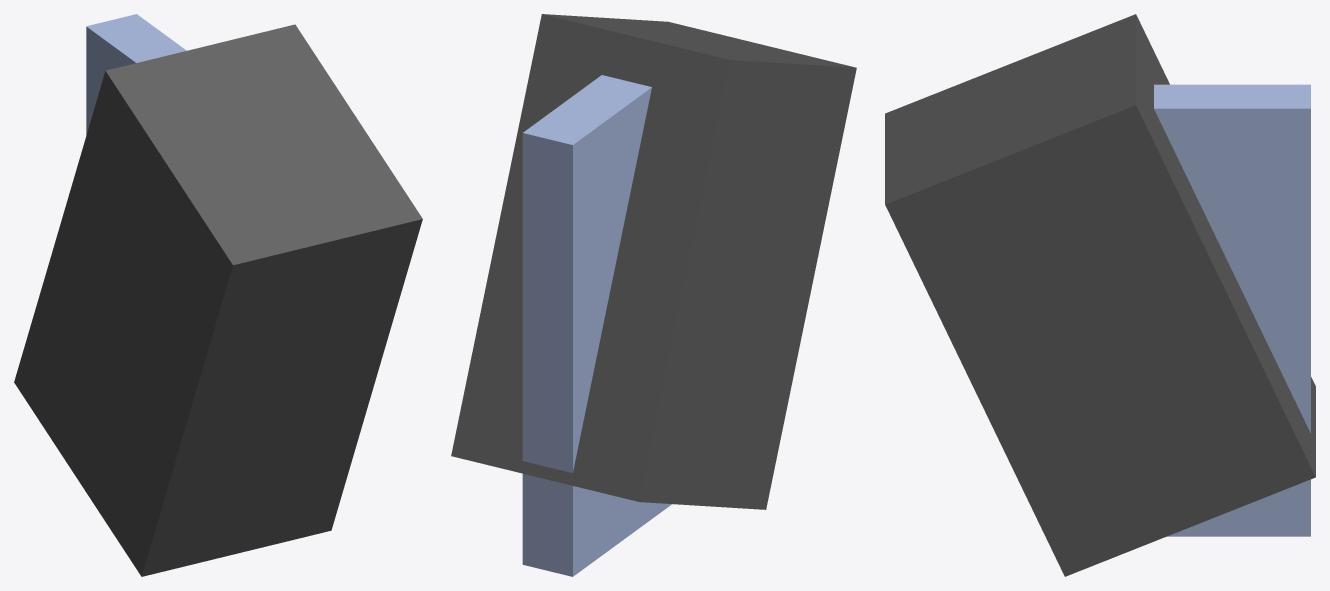
The model's file is MartilloBCabezafbx 1.fbx.
3 renders of one model, left to right at view 1: azimuth 30°, elevation 25°; view 2: azimuth 150°, elevation 25°; view 3: azimuth 270°, elevation 25°, orthographic.
Visible parts, largest first — view 1: Cube.002; view 2: Cube.002; view 3: Cube.002.
Boxes of the visible parts, x1,y1,x2,y2 form: Cube.002: (14,14,422,576); Cube.002: (451,14,856,576); Cube.002: (885,14,1315,576).
Bounding box in the file's own units: 46.24 × 112 × 92.39.
